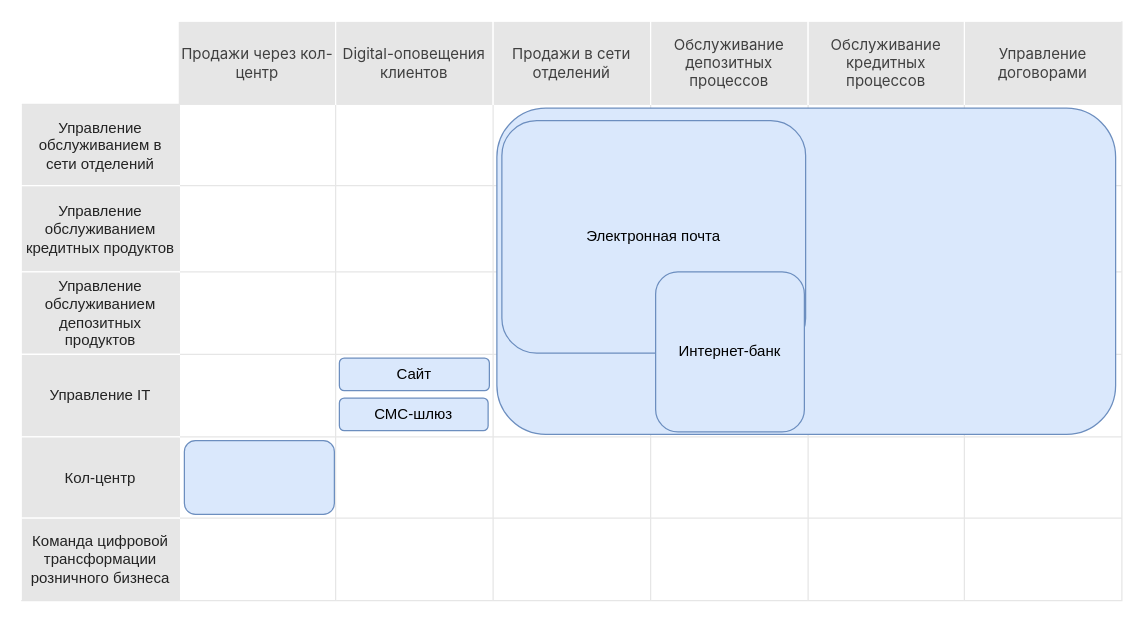
Some shapes in this 1144 by 623 pixel diagram are drawn without their labels. Each missing label, with the box of its shape:
АБС: (496, 107, 1116, 434)
Система кол-центра: (183, 439, 334, 514)
